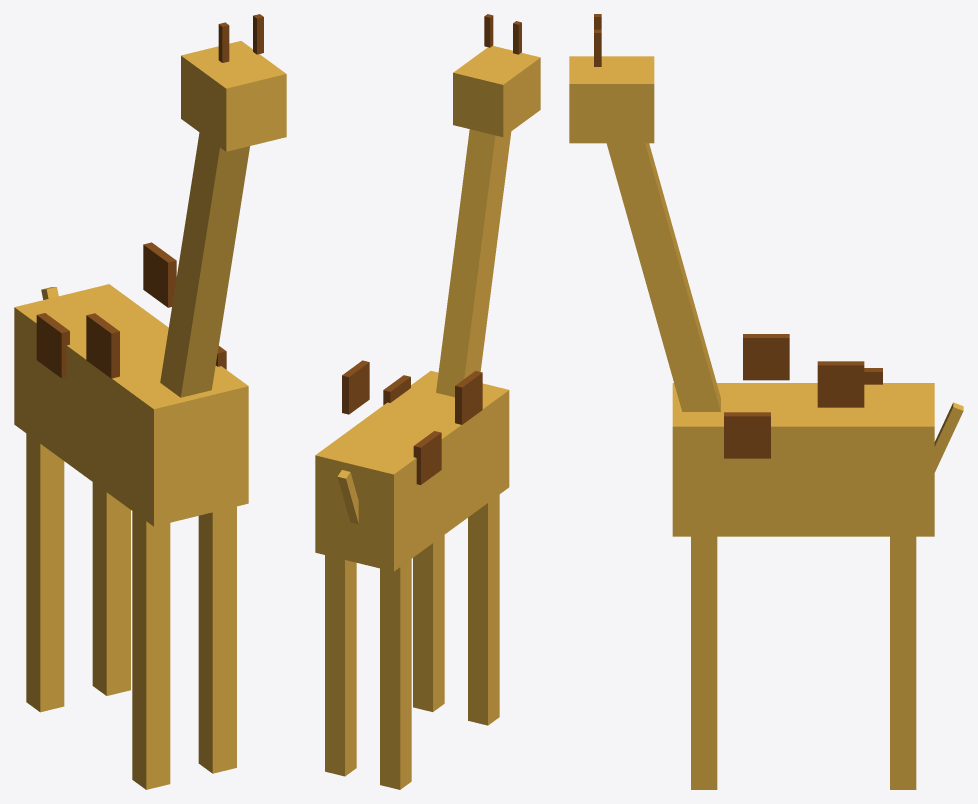
File: giraffe.glb
3 renders of one model, left to right at view 1: azimuth 30°, elevation 25°; view 2: azimuth 150°, elevation 25°; view 3: azimuth 270°, elevation 25°, orthographic. The views are drawn at different scales.
Visible parts, largest first — view 1: giraffe; view 2: giraffe; view 3: giraffe.
Part boxes in pixels (x1=…): giraffe: x1=14, y1=14, x2=286, y2=789; giraffe: x1=315, y1=14, x2=540, y2=789; giraffe: x1=569, y1=14, x2=963, y2=789.
Size of the model in its own units: 0.61 by 4.4 by 2.11.
